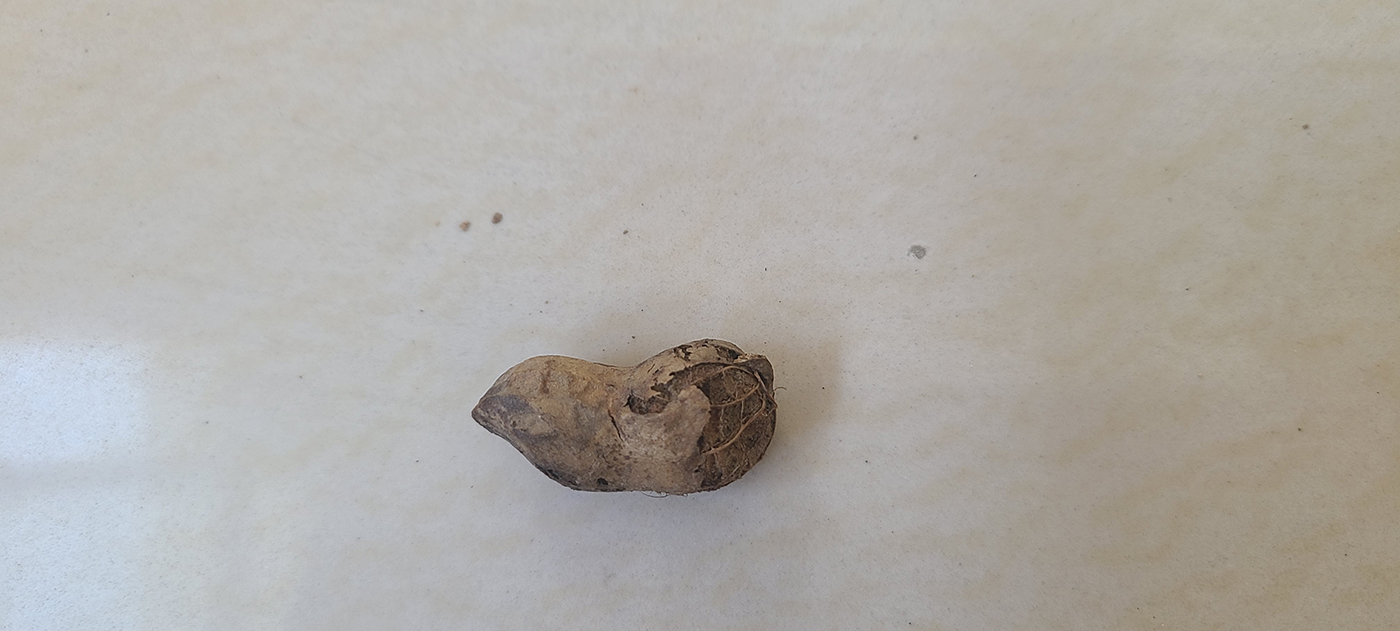l: (468, 336, 777, 494)
